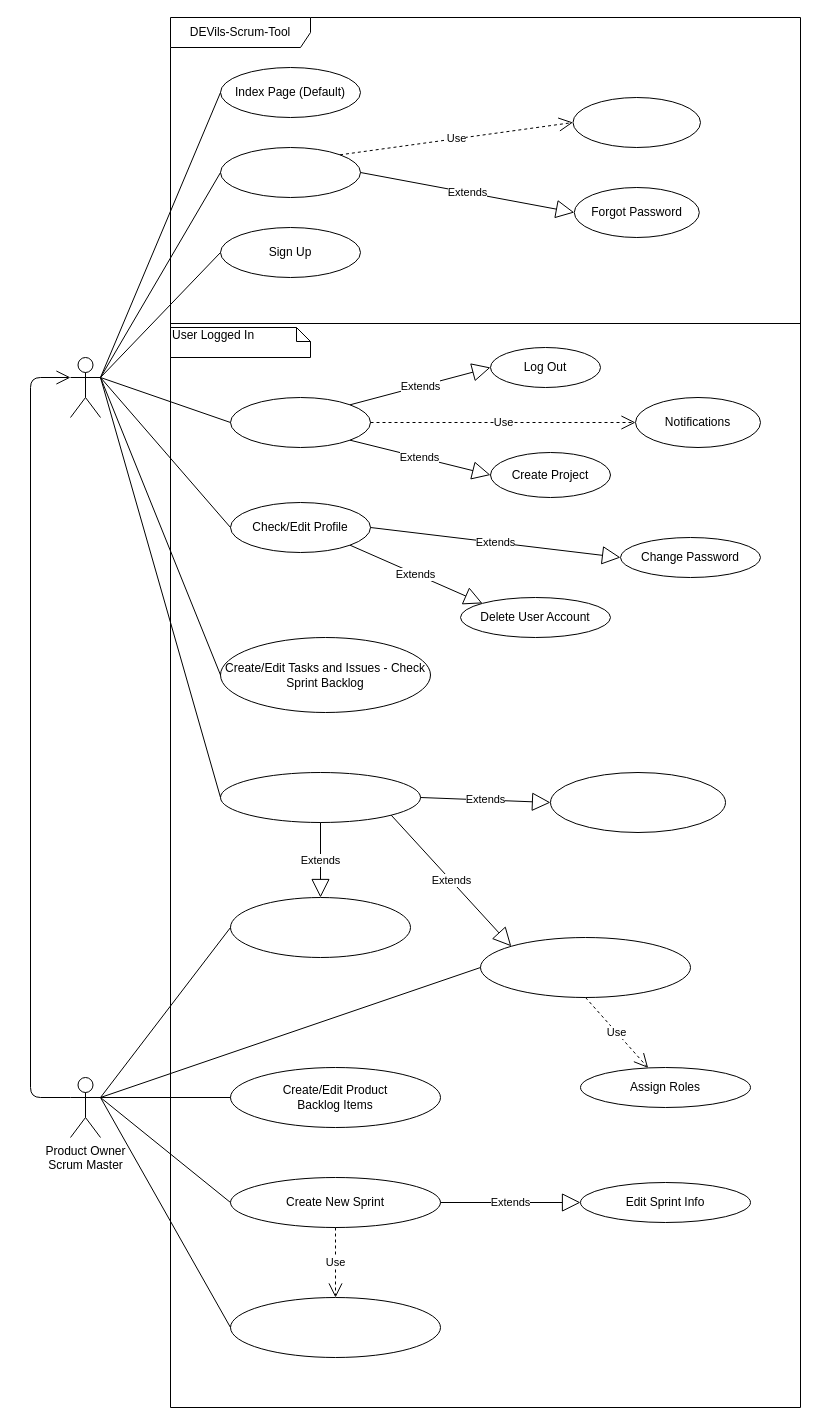
This 818x1425 diagram has some shape labels left out. Each missing label, with the centre of its shape:
"Add/Remove User Stories into/from Sprint Backlog" goes at [335,1327].
"Check Project Overview" goes at [320,797].
"Edit/Delete Project Info (ONLY Product Owner)" goes at [320,927].
"General User" goes at [85,387].
"Index - Home page" goes at [300,422].
"Invite Members into Project" goes at [585,967].
"Leave Project (NOT Product Owner)" goes at [638,802].
"Log In" goes at [290,172].
"Verify email & password" goes at [636,122].
